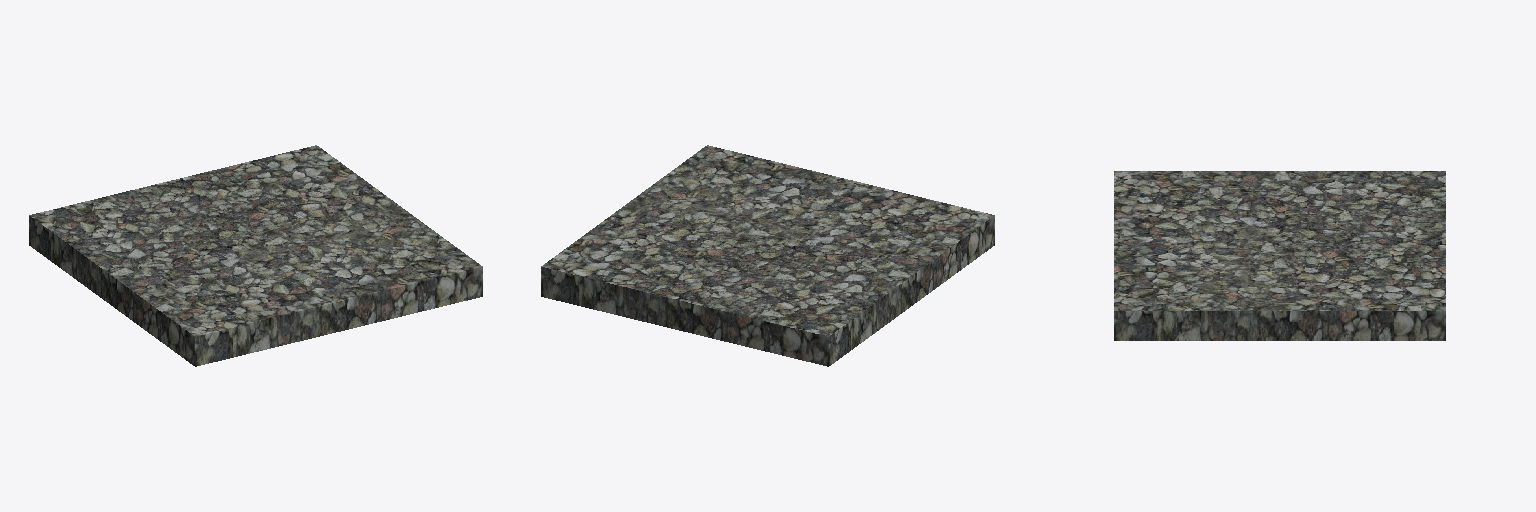
3 views of the same model, side by side, from view 1: azimuth 30°, elevation 25°; view 2: azimuth 150°, elevation 25°; view 3: azimuth 270°, elevation 25° (orthographic).
Visible parts, largest first — view 1: cube; view 2: cube; view 3: cube.
Boxes of the visible parts, <box> form: cube: <box>29,145,482,366</box>; cube: <box>541,145,994,366</box>; cube: <box>1114,171,1445,340</box>.
Bounding box in the file's own units: 1 × 0.1 × 1.
1 materials, 1 textured.